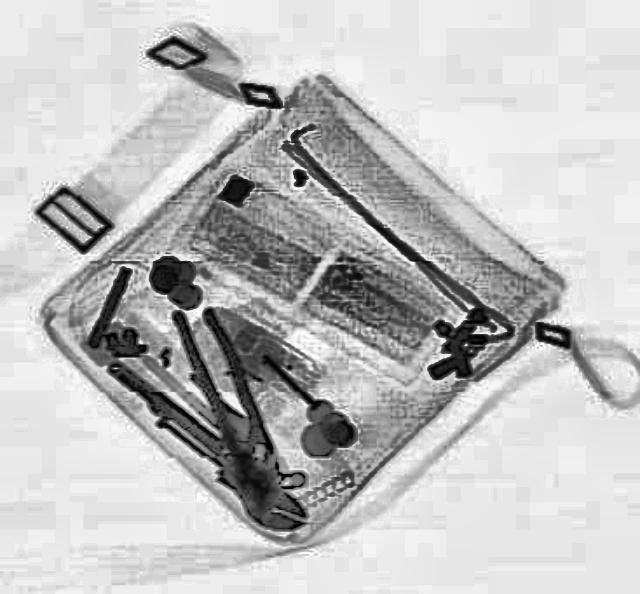Pliers: (165, 296, 292, 506)
